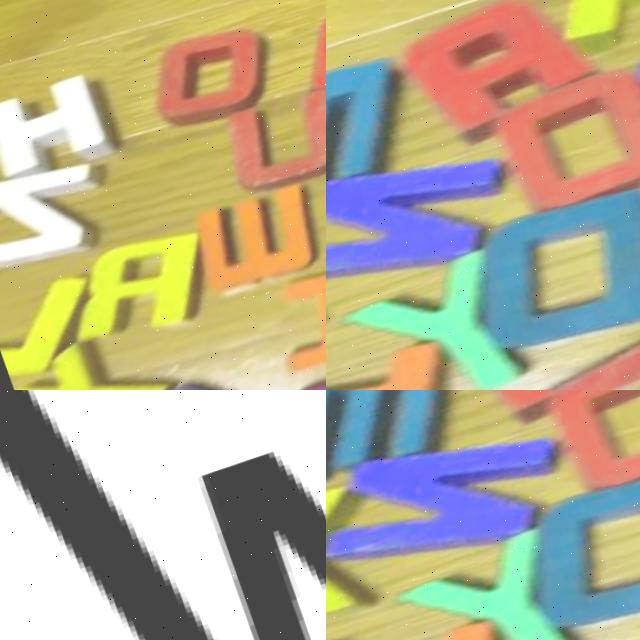A: (385, 0, 579, 144), (439, 390, 633, 423), (288, 0, 326, 103)
D: (453, 190, 640, 369), (507, 469, 640, 640)
H: (0, 61, 128, 195)
I: (326, 312, 473, 390), (326, 591, 527, 640), (275, 249, 326, 376)
L: (0, 268, 101, 380)
M: (326, 390, 463, 491), (326, 48, 409, 212)
N: (326, 414, 564, 582), (326, 135, 510, 303)
O: (489, 56, 640, 227), (137, 21, 267, 135), (543, 390, 640, 506)
R: (51, 224, 215, 353)
U: (203, 76, 326, 202), (463, 323, 640, 390)
W: (0, 390, 326, 640), (175, 180, 326, 302)
X: (0, 325, 165, 390)
Y: (326, 244, 526, 390), (365, 523, 580, 640)
Z: (0, 153, 111, 285)
